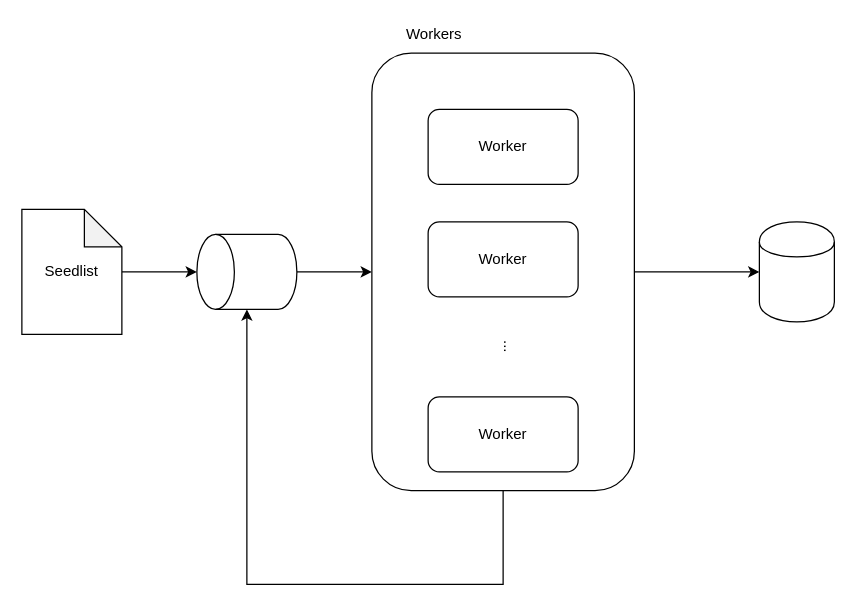
Some shapes in this 856 by 616 pixel diagram are drawn without their labels. The shapes that lost their labels are listed below. From the top down, each one's centre as x and y in pixels, then its label:
(246,271): URL work queue
(796,271): Document DB
